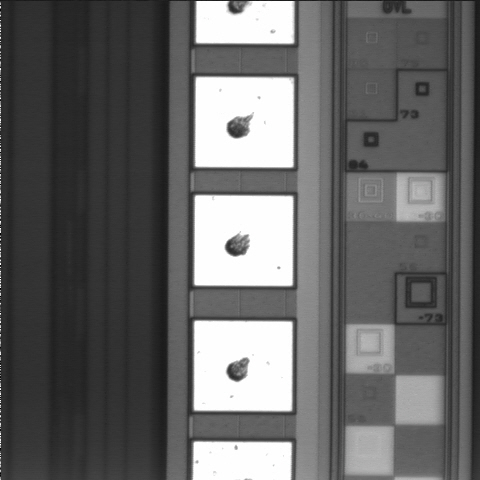pad: (194, 195, 293, 286), (195, 77, 294, 167), (194, 321, 292, 411)
